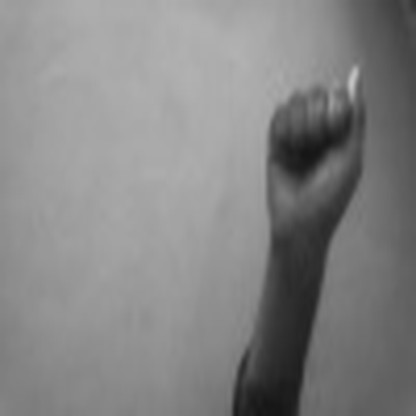a: (261, 56, 371, 248)
